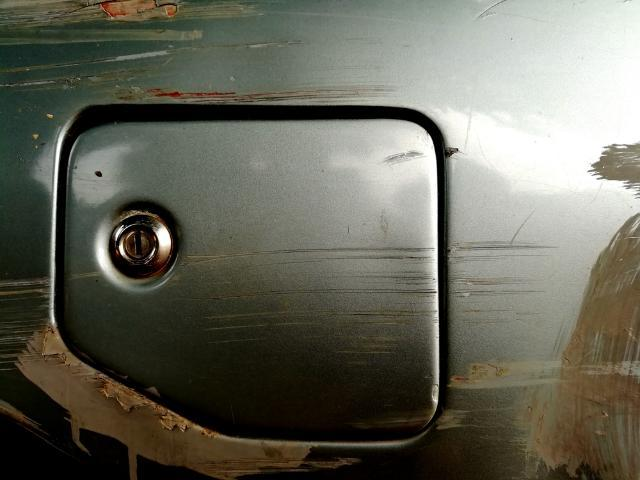rub: (0, 276, 384, 480), (434, 143, 640, 480), (176, 240, 439, 378)
